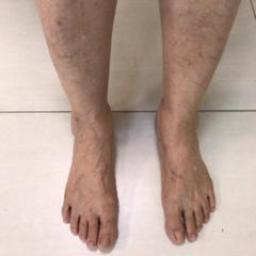Dorsal View -Both Feet-: (35, 78, 240, 254)
